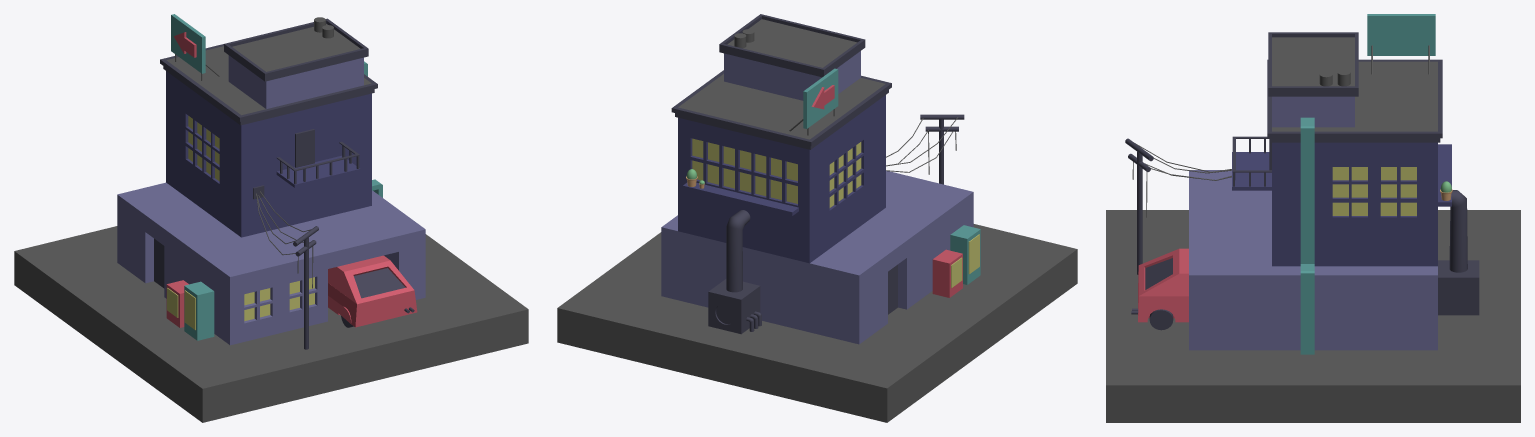
The model's file is House_1.fbx.
3 renders of one model, left to right at view 1: azimuth 30°, elevation 25°; view 2: azimuth 150°, elevation 25°; view 3: azimuth 270°, elevation 25°, orthographic. The views are drawn at different scales.
Visible parts, largest first — view 1: House_Tile_1, House_2, House_10, House_3, Car, Vending_machines, Advertisement, Electricity; view 2: House_Tile_1, House_2, House_10, House_3, Airfilter, Vending_machines, Advertisement, Electricity; view 3: House_Tile_1, House_2, House_10, House_3, Car, Cables, Airfilter, Advertisement, Electricity, Vents.
Part boxes in pixels (x1,y1,x2,y2): House_Tile_1: (14,226,528,422); House_2: (160,44,377,237); House_10: (117,182,425,345); House_3: (224,18,368,108); Car: (328,255,417,327); Vending_machines: (166,280,214,340); Advertisement: (171,14,219,80); Electricity: (253,185,318,349); House_Tile_1: (557,224,1077,422); House_2: (671,70,891,263); House_10: (661,171,973,344); House_3: (719,14,865,100); Airfilter: (708,210,761,334); Vending_machines: (932,225,980,297); Advertisement: (789,68,838,135); Electricity: (886,114,964,184); House_Tile_1: (1106,210,1520,422); House_2: (1232,59,1451,266); House_10: (1189,170,1437,350); House_3: (1268,32,1358,127); Car: (1131,248,1188,330); Cables: (1300,117,1314,354); Airfilter: (1438,190,1479,315); Advertisement: (1367,14,1435,74); Electricity: (1125,138,1231,274); Vents: (1319,69,1350,86).
Bounding box in the file's own units: 10 × 7.91 × 10.
